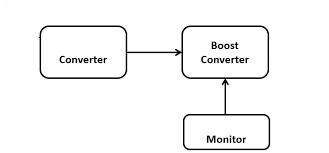arrow: (125, 47, 182, 57), (221, 77, 230, 116)
process: (37, 24, 129, 81), (180, 24, 270, 81), (182, 113, 271, 151)
text: (200, 40, 250, 66), (58, 54, 108, 65), (204, 133, 248, 144)
